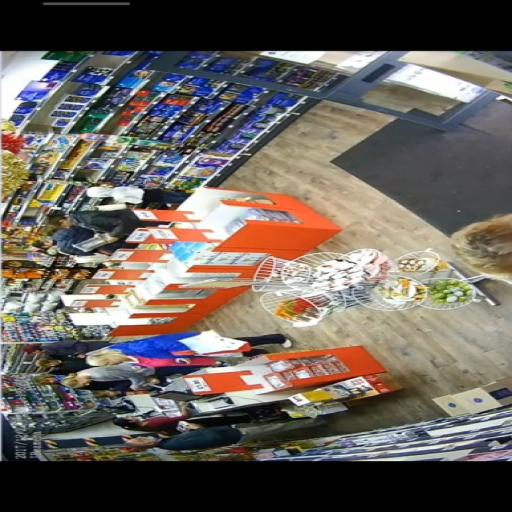workers: (85, 329, 292, 369), (119, 416, 244, 452)
